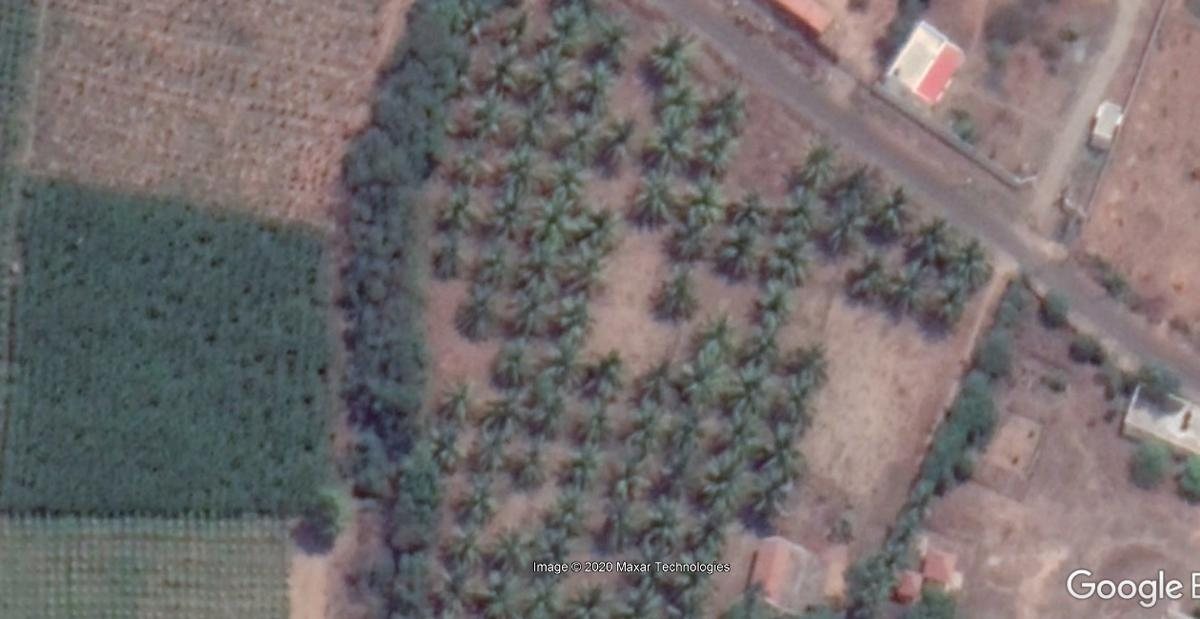coconut: (724, 349, 777, 416), (676, 353, 734, 407), (505, 279, 558, 338), (698, 443, 743, 511), (745, 463, 799, 518), (742, 274, 800, 325), (551, 288, 601, 347), (553, 107, 609, 159), (650, 24, 699, 82), (794, 127, 842, 186), (649, 263, 700, 318), (646, 117, 692, 175), (873, 179, 919, 237), (454, 285, 503, 339), (559, 444, 608, 497), (459, 93, 513, 140), (570, 58, 617, 111), (777, 184, 826, 234), (446, 524, 491, 577), (457, 480, 505, 529), (562, 573, 612, 619), (887, 256, 930, 308), (513, 99, 555, 152), (730, 182, 770, 237), (492, 528, 539, 574), (631, 176, 676, 222), (518, 574, 564, 619), (636, 357, 676, 408), (687, 175, 723, 227), (429, 233, 469, 279), (439, 374, 474, 420), (535, 529, 570, 574), (439, 185, 473, 229), (435, 439, 466, 479)
